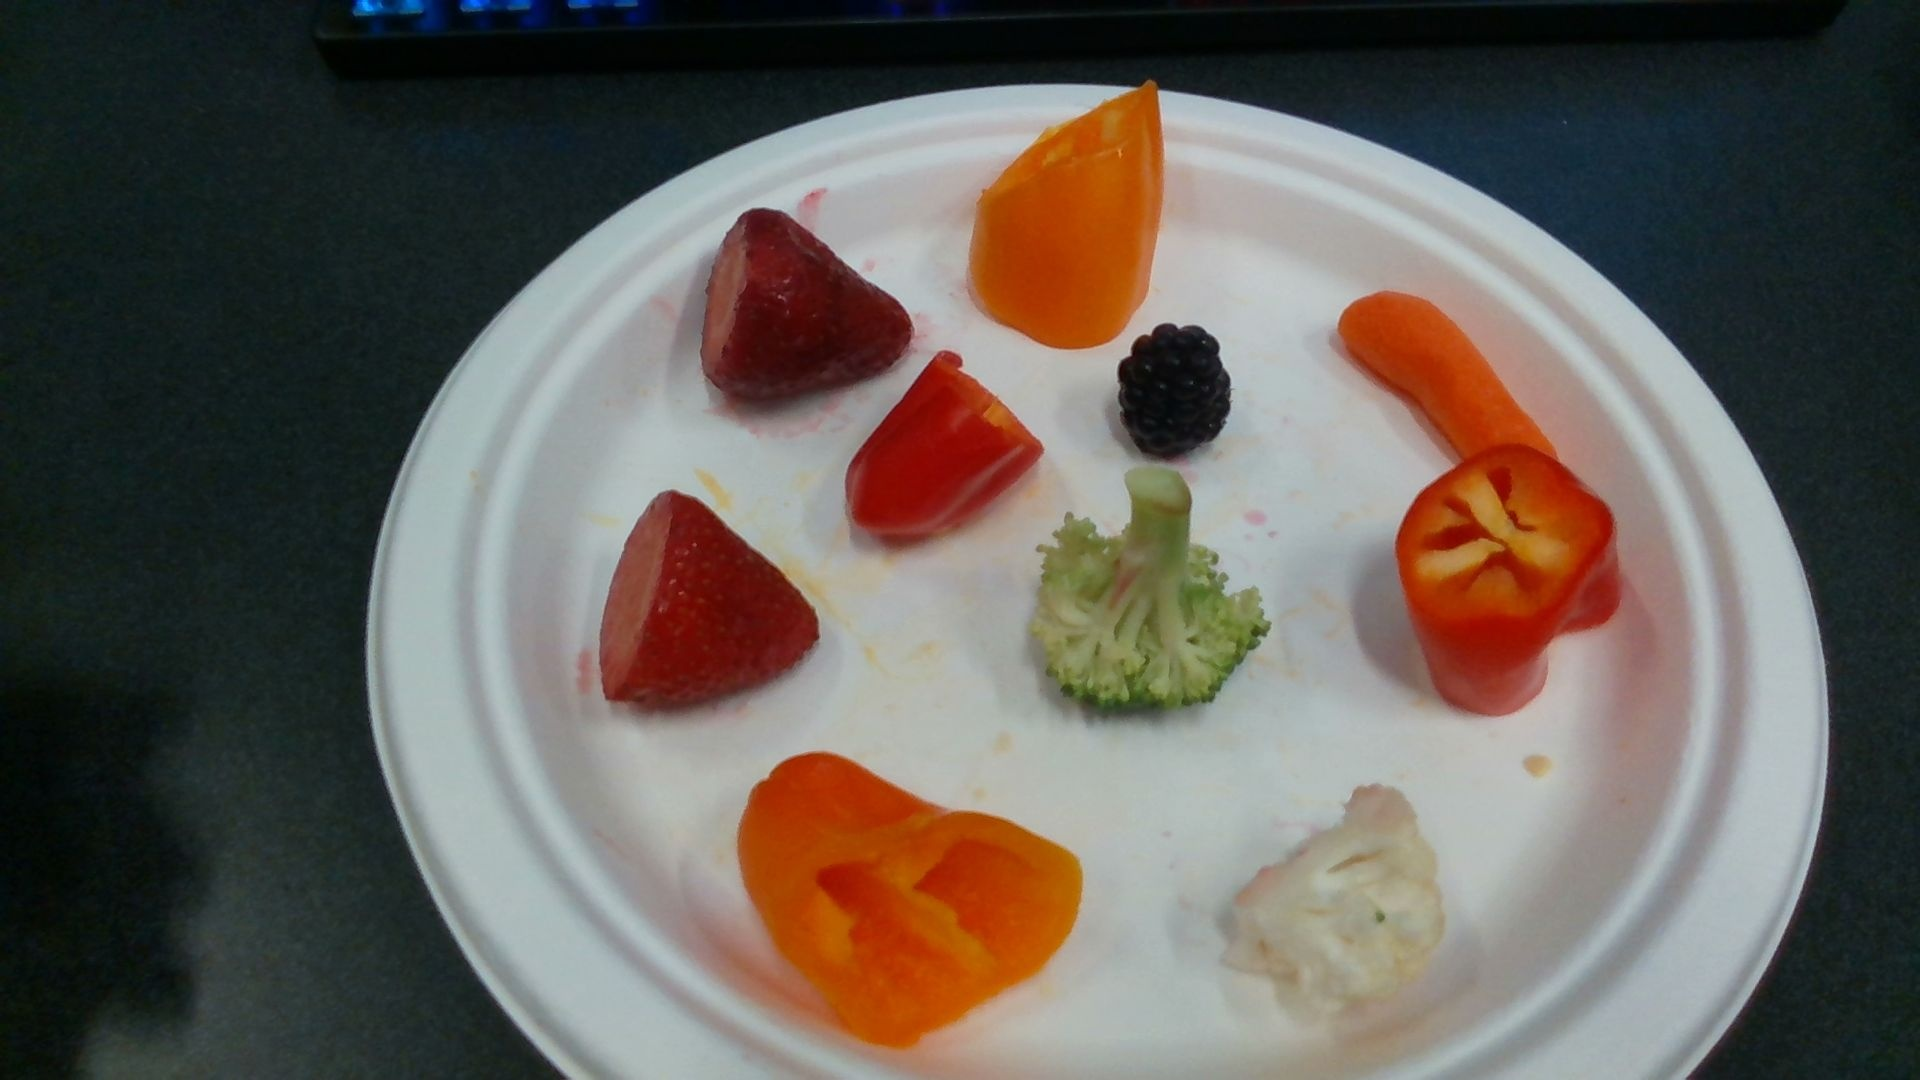bell_pepper: (740, 753, 1083, 1040), (1396, 446, 1622, 713), (971, 80, 1164, 345), (849, 353, 1039, 535)
blackberry: (1122, 323, 1229, 456)
broccoli: (1039, 473, 1262, 709)
carrot: (1340, 295, 1559, 462)
cauliflower: (1229, 786, 1443, 1018)
strawberry: (600, 491, 820, 700), (702, 211, 910, 401)
